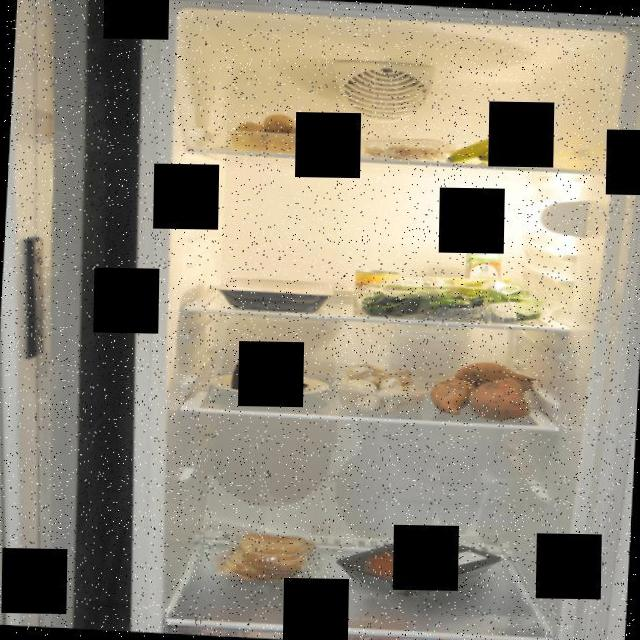Carne vacuno: (332, 528, 503, 602)
Champiñones: (335, 360, 427, 415)
Gambas/Langostinos: (364, 140, 466, 166)
Patata: (222, 107, 344, 157)
Plátano: (442, 126, 546, 169)
Queso: (225, 358, 312, 394)
